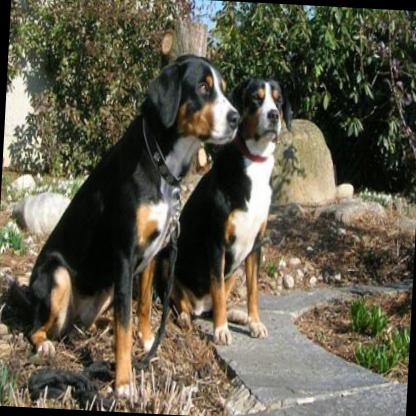EntleBucher: (0, 42, 243, 403), (156, 66, 288, 324)
